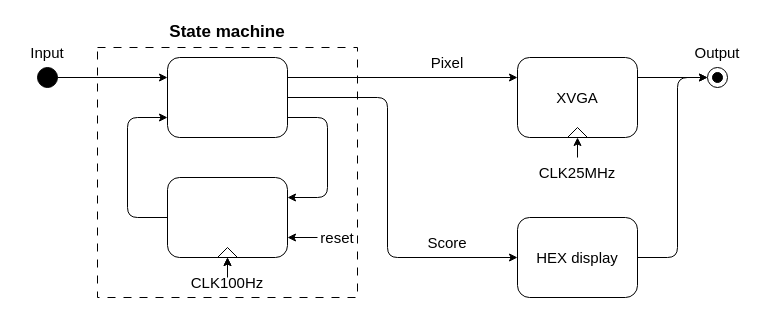
Image size: 764x315. Some labels were removed from this diagram. Here are the shapes that lost their labels. From the top down, the box of each, then its label:
(166, 56, 288, 138): Combinatorial logic
(166, 176, 288, 258): D Flip-Flop
